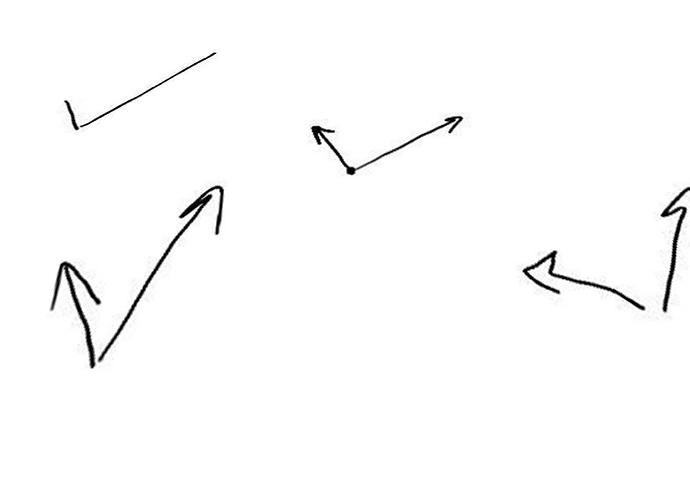arrow: (99, 183, 224, 359), (522, 250, 648, 312), (44, 260, 99, 369), (357, 113, 465, 166), (657, 186, 690, 311), (308, 124, 348, 170)
arrownohead: (80, 50, 217, 125), (63, 99, 78, 128)
